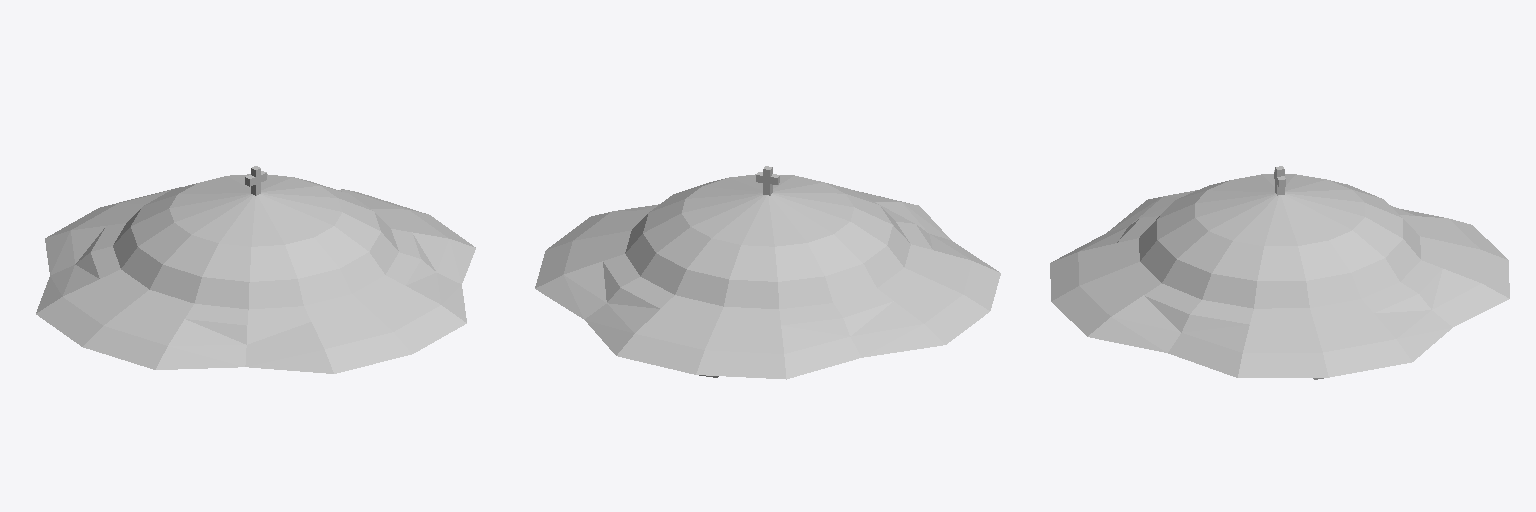
Rendered from ovni_2.obj.
The picture shows the model from 3 angles: view 1: azimuth 30°, elevation 25°; view 2: azimuth 150°, elevation 25°; view 3: azimuth 270°, elevation 25°; orthographic projection.
Parts seen in each view (by area): view 1: Sphere; view 2: Sphere; view 3: Sphere.
Boxes of the visible parts, box(x1,y1,x2,y2) form: Sphere: box(36, 166, 475, 373); Sphere: box(535, 166, 1000, 379); Sphere: box(1050, 166, 1509, 379).
Bounding box in the file's own units: 9.71 × 4.1 × 9.71.